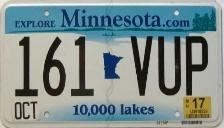1: (13, 34, 41, 98), (70, 34, 97, 98)
6: (41, 34, 69, 97)
P: (184, 34, 210, 97)
U: (156, 34, 183, 96)
V: (127, 33, 154, 97)
